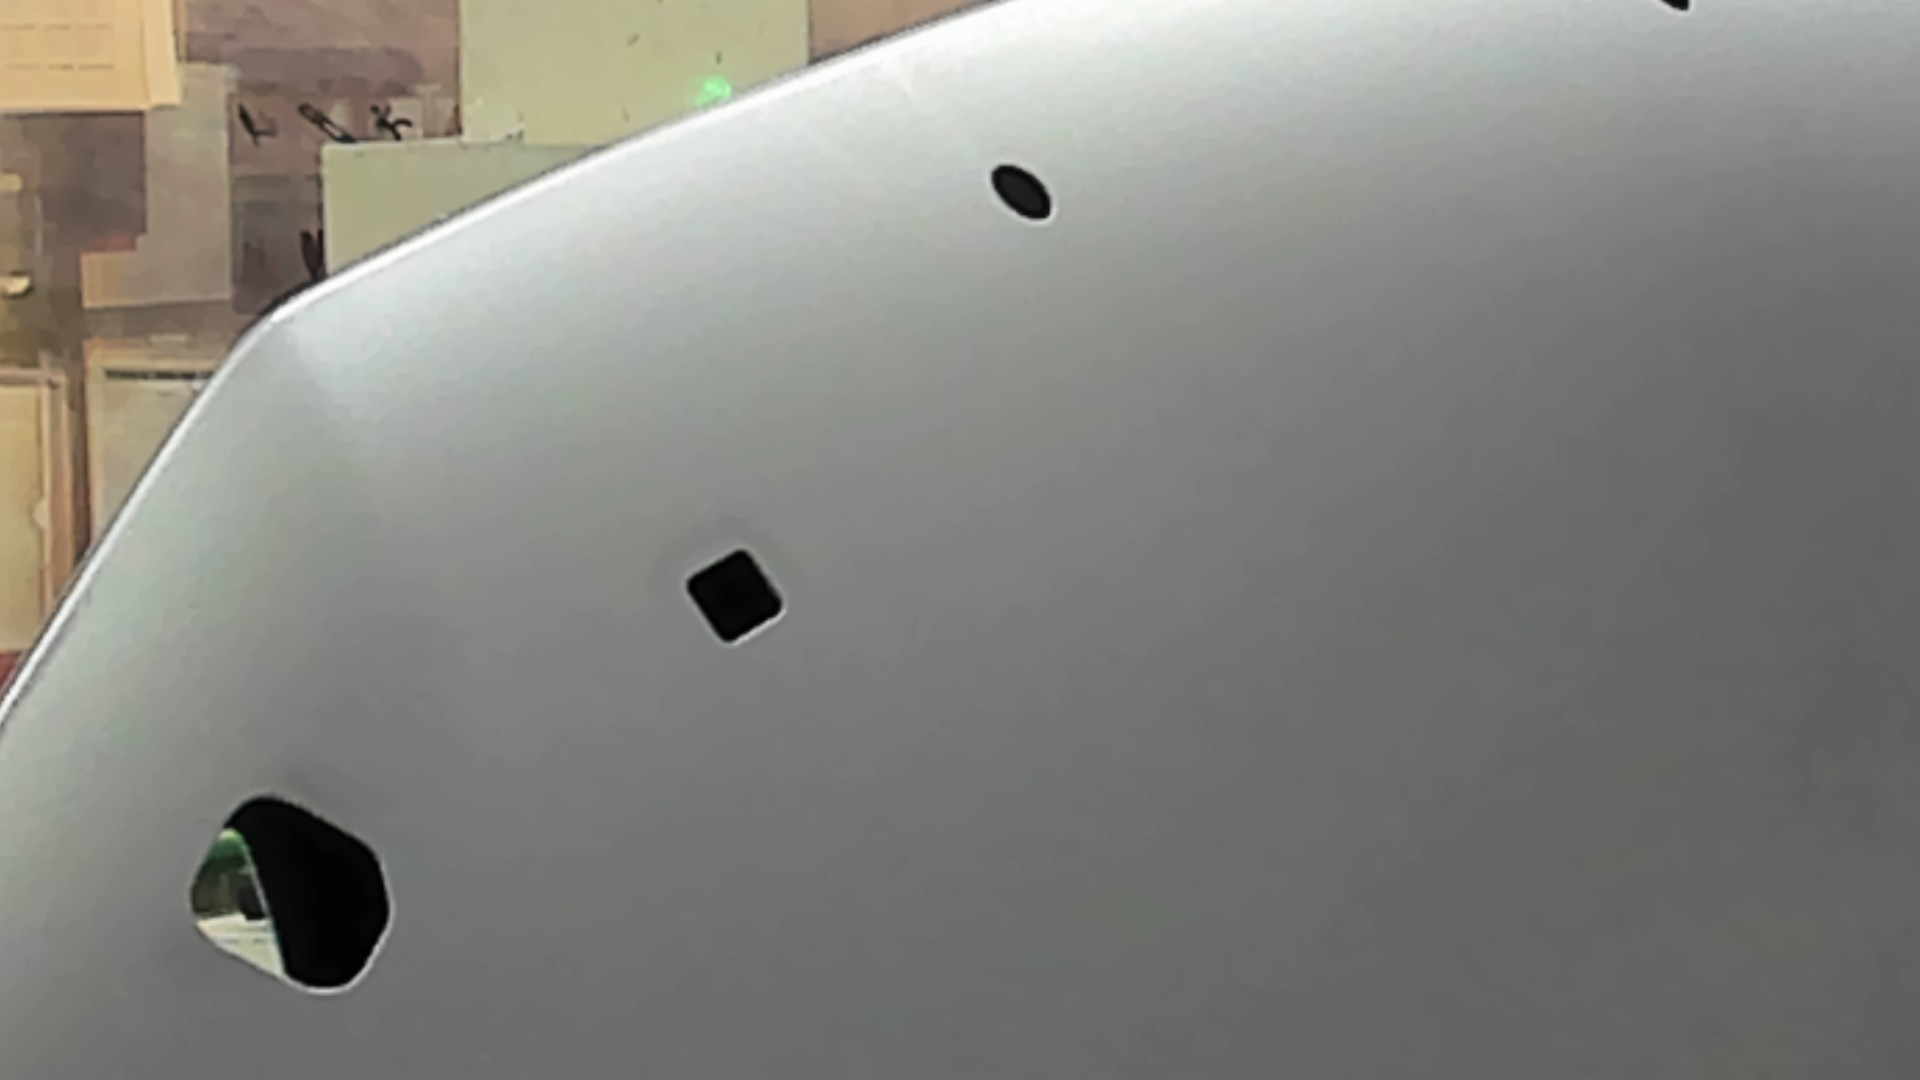chico: (971, 137, 1073, 243)
grande: (157, 774, 433, 1015)
mediano: (675, 531, 802, 654)
